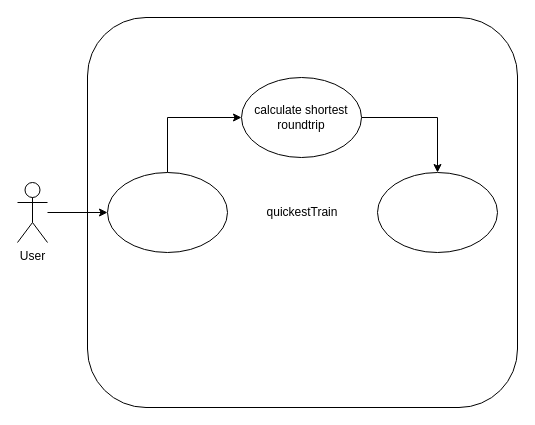
Image size: 535x425. Some labels were removed from this diagram. The box of each missing label's shape, as (x1, y1, x2, y2) in pixels:
choose startpoint: (106, 172, 228, 252)
show top 3 connections in console: (376, 172, 498, 252)
